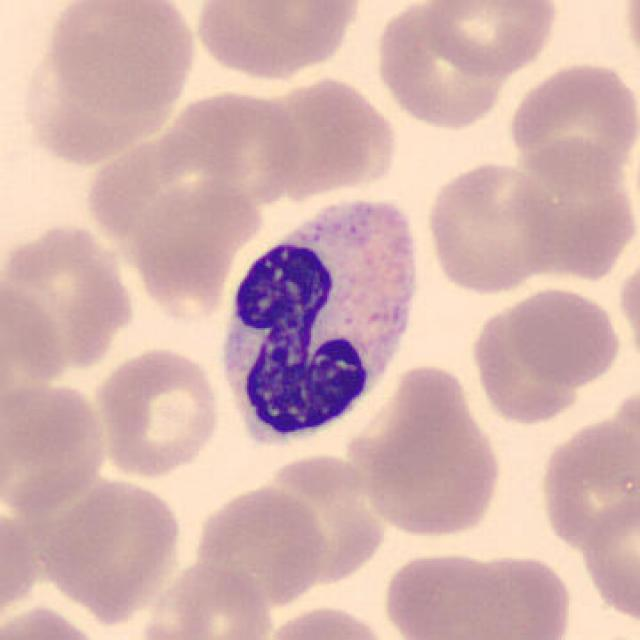Neutrophil: (208, 192, 427, 460)
RBC: (346, 358, 508, 545), (0, 215, 140, 382), (39, 472, 185, 622), (146, 86, 306, 216), (421, 157, 562, 296), (252, 72, 400, 203), (464, 288, 599, 430), (504, 134, 633, 280), (89, 342, 224, 481), (503, 56, 638, 194), (39, 0, 199, 116), (372, 0, 512, 132), (190, 481, 331, 610), (78, 137, 238, 246), (0, 374, 112, 518), (188, 0, 366, 83), (535, 412, 638, 552), (380, 548, 521, 640), (507, 284, 624, 389), (441, 550, 576, 640), (137, 555, 277, 640), (419, 0, 561, 79), (576, 488, 640, 628), (256, 603, 396, 640), (0, 601, 107, 640), (615, 249, 640, 370), (618, 0, 640, 81)
